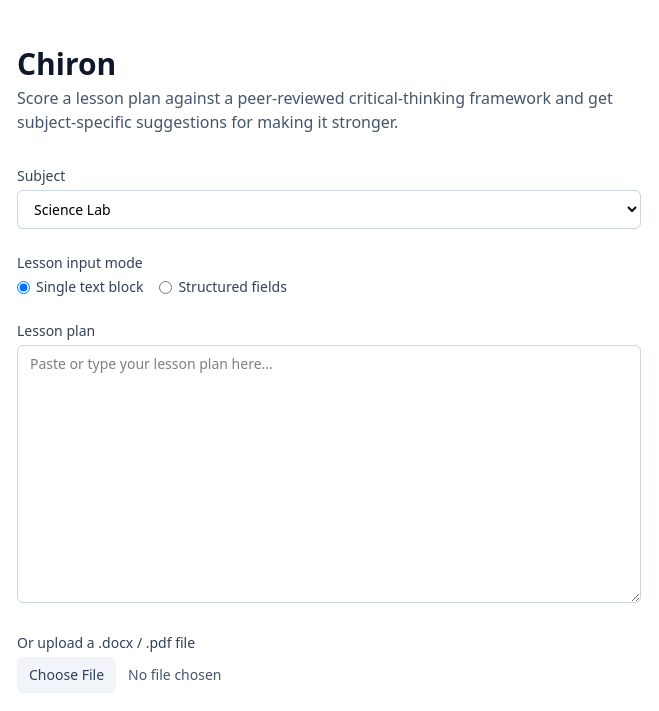
Scenario: lesson analyzer — input to score to revise loop › shows a clear error and preserves the form when scoring fails
Step 1. Type "A lesson about erosion." into the text box labelled "Lesson plan" → (329, 474), box [17,345,641,603]
(page scrolled)
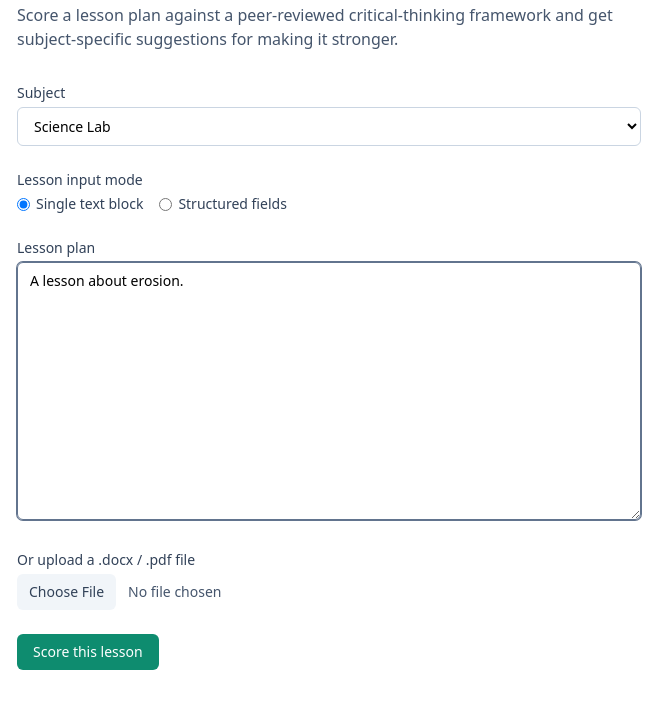
Step 2. Click the button "Score this lesson" → (88, 652), box [17,634,159,670]
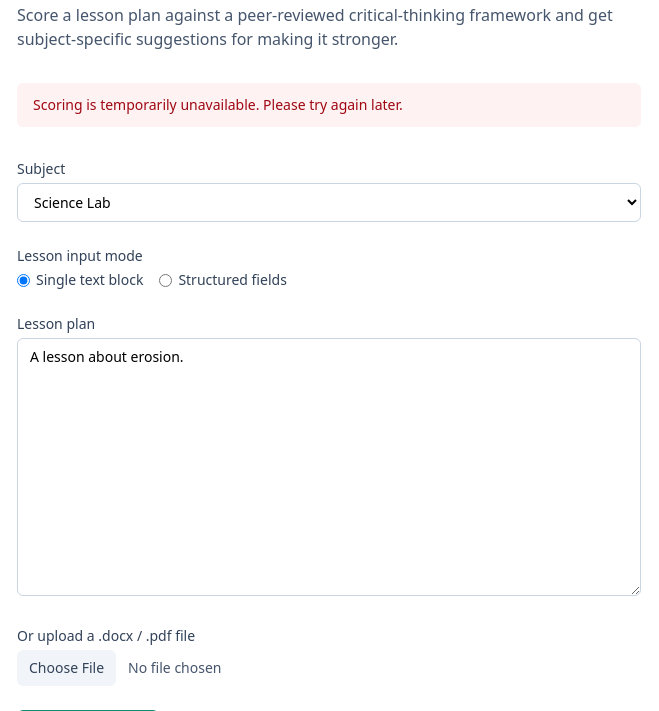
Check: the text box labelled "Lesson plan" holds "A lesson about erosion.", box [17,338,641,596]
Check: the message shows "Scoring is temporarily unavailable.", box [33,95,403,114]
